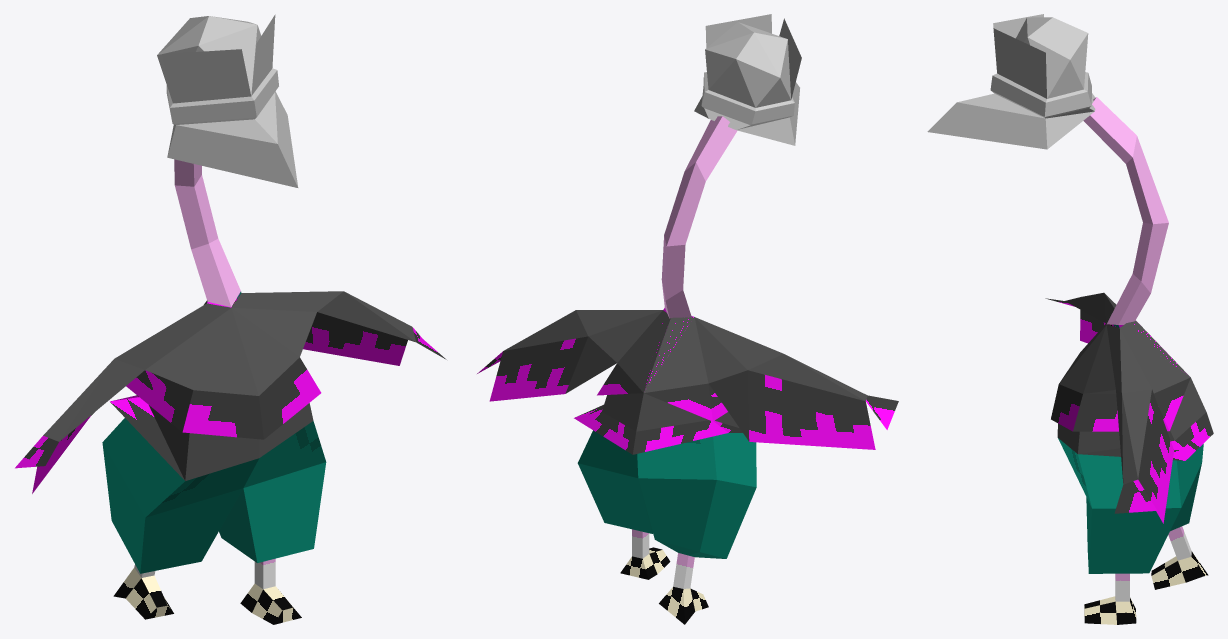
Rendered from ost35.obj.
The picture shows the model from 3 angles, left to right: view 1: azimuth 30°, elevation 25°; view 2: azimuth 150°, elevation 25°; view 3: azimuth 270°, elevation 25°; orthographic projection. The views are drawn at different scales.
Parts seen in each view (by area): view 1: Cube, Icosphere; view 2: Cube, Icosphere; view 3: Cube, Icosphere.
Part boxes in pixels (box(x1,y1,x2,y2)): Cube: box(15, 159, 446, 624); Icosphere: box(157, 14, 298, 187); Cube: box(477, 116, 898, 624); Icosphere: box(694, 14, 801, 145); Cube: box(1045, 97, 1213, 624); Icosphere: box(927, 14, 1095, 149).
Bounding box in the file's own units: 11.39 × 15.61 × 7.21.
